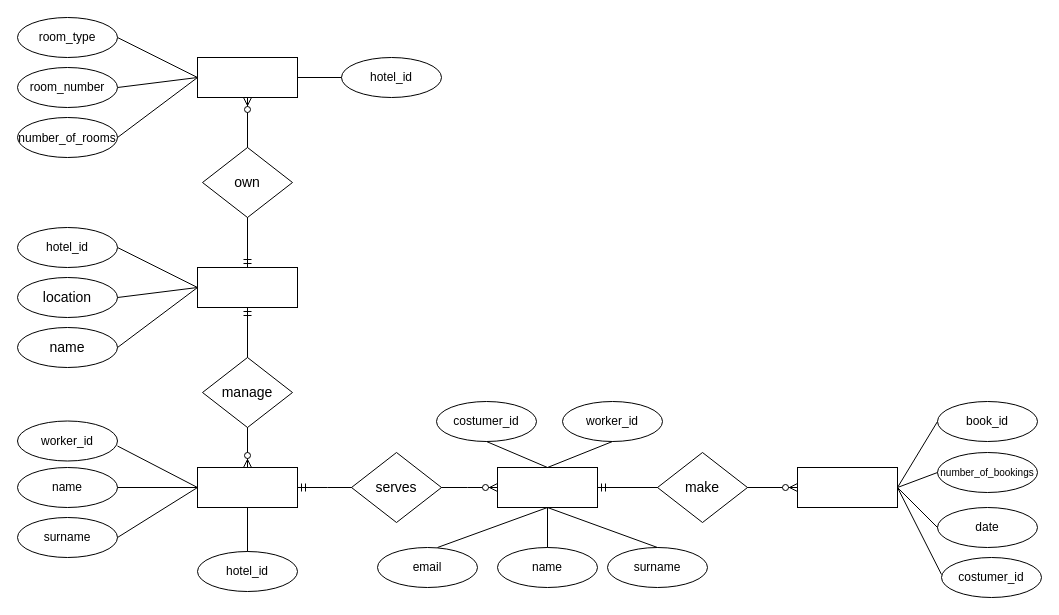
Some shapes in this 1059 by 615 pixel diagram are drawn without their labels. The centre of each missing label's shape, as x and y in pixels:
"Booking" belongs at point (847, 487).
"Custumers" belongs at point (547, 487).
"Hotel" belongs at point (247, 287).
"Rooms" belongs at point (247, 77).
"Worker" belongs at point (247, 487).
